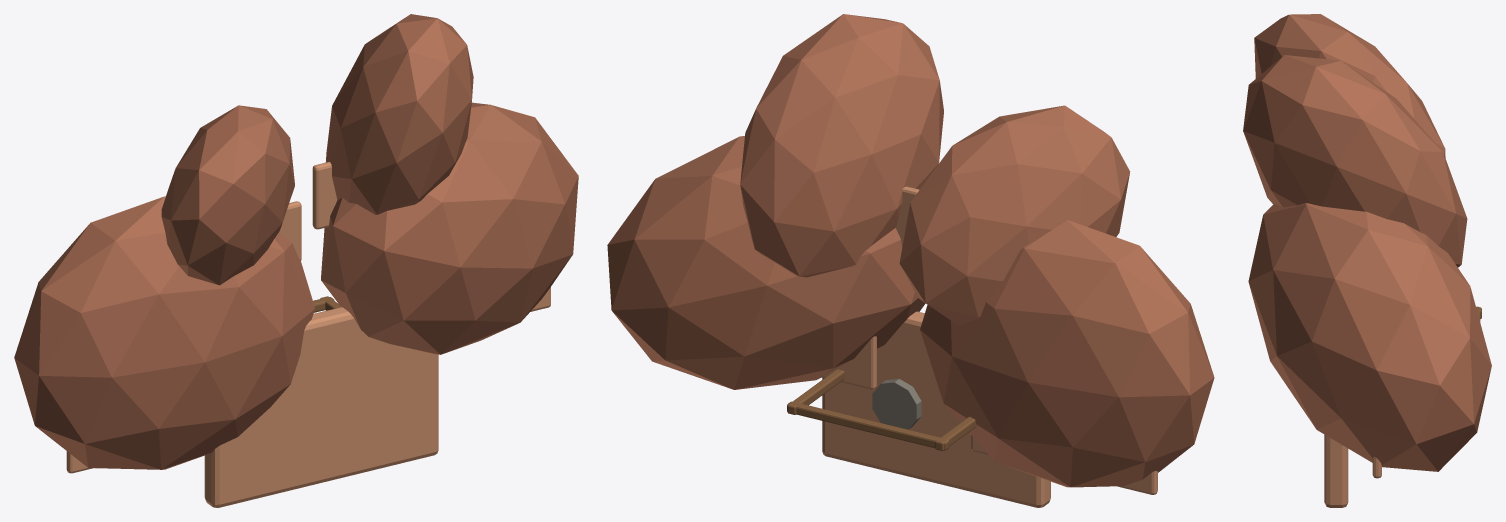
File: region-canyon-landmark.glb
3 views of the same model, side by side, from view 1: azimuth 30°, elevation 25°; view 2: azimuth 150°, elevation 25°; view 3: azimuth 270°, elevation 25° (orthographic). The views are drawn at different scales.
Parts seen in each view (by area): view 1: layered quarry face, layered quarry face.001, quarry work deck, layered quarry face.003, layered quarry face.002, visible cut ledge.003, visible cut ledge.002; view 2: layered quarry face, layered quarry face.001, layered quarry face.003, layered quarry face.002, quarry work deck, quarry winch, quarry crane crossbeam, visible cut ledge.001, quarry crane mast.001; view 3: layered quarry face.001, layered quarry face.003, layered quarry face.002, quarry work deck.
Boxes of the visible parts, bbox=[...] form: layered quarry face: bbox=[14, 196, 314, 469]; layered quarry face.001: bbox=[321, 102, 578, 354]; quarry work deck: bbox=[204, 307, 438, 507]; layered quarry face.003: bbox=[325, 14, 473, 214]; layered quarry face.002: bbox=[161, 105, 294, 285]; visible cut ledge.003: bbox=[312, 162, 337, 229]; visible cut ledge.002: bbox=[279, 201, 301, 260]; layered quarry face: bbox=[920, 220, 1214, 487]; layered quarry face.001: bbox=[607, 136, 925, 389]; layered quarry face.003: bbox=[740, 14, 943, 277]; layered quarry face.002: bbox=[899, 105, 1130, 325]; quarry work deck: bbox=[822, 311, 1050, 507]; quarry winch: bbox=[872, 379, 921, 429]; quarry crane crossbeam: bbox=[787, 401, 949, 450]; visible cut ledge.001: bbox=[820, 336, 876, 389]; quarry crane mast.001: bbox=[787, 369, 844, 414]; layered quarry face.001: bbox=[1248, 203, 1491, 471]; layered quarry face.003: bbox=[1243, 55, 1467, 267]; layered quarry face.002: bbox=[1254, 14, 1445, 157]; quarry work deck: bbox=[1324, 434, 1348, 507].
Size of the model in its own units: 19.58 by 14.58 by 7.48.
